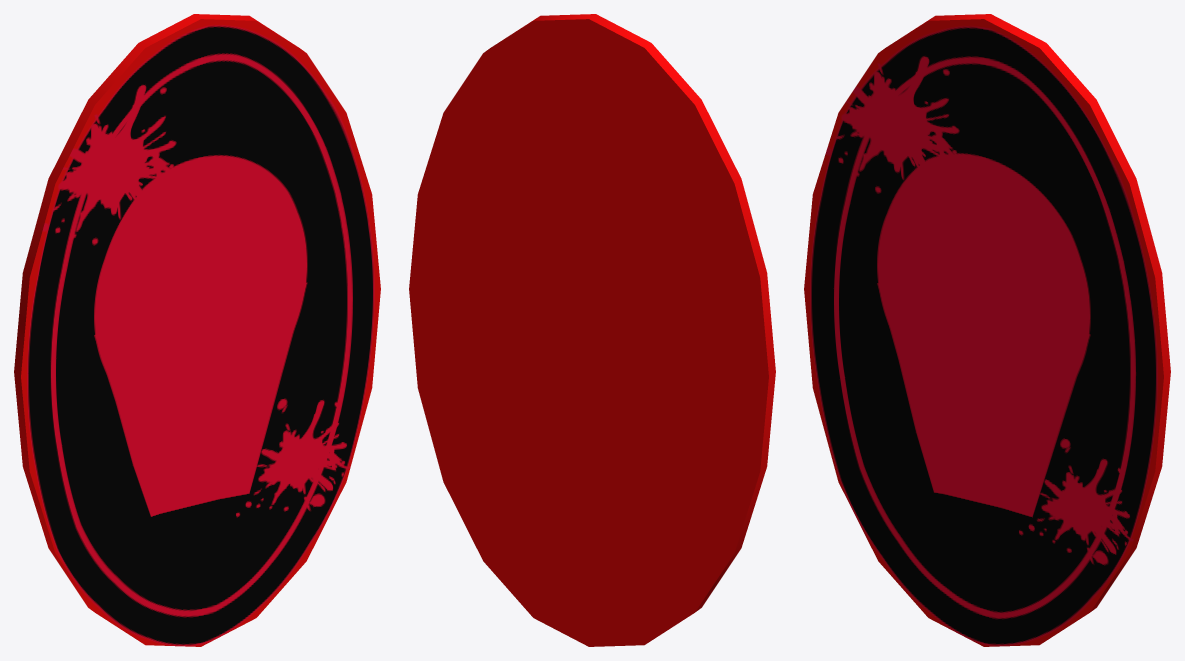
Rendered from Portal.fbx.
3 renders of one model, left to right at view 1: azimuth 30°, elevation 25°; view 2: azimuth 150°, elevation 25°; view 3: azimuth 330°, elevation 25°, orthographic.
Parts seen in each view (by area): view 1: pCylinder1; view 2: pCylinder1; view 3: pCylinder1.
Part boxes in pixels (x1,y1,x2,y2): pCylinder1: (14, 14, 380, 646); pCylinder1: (409, 14, 775, 646); pCylinder1: (804, 14, 1170, 646).
Size of the model in its own units: 60 by 100 by 2.
1 material, 1 textured.
